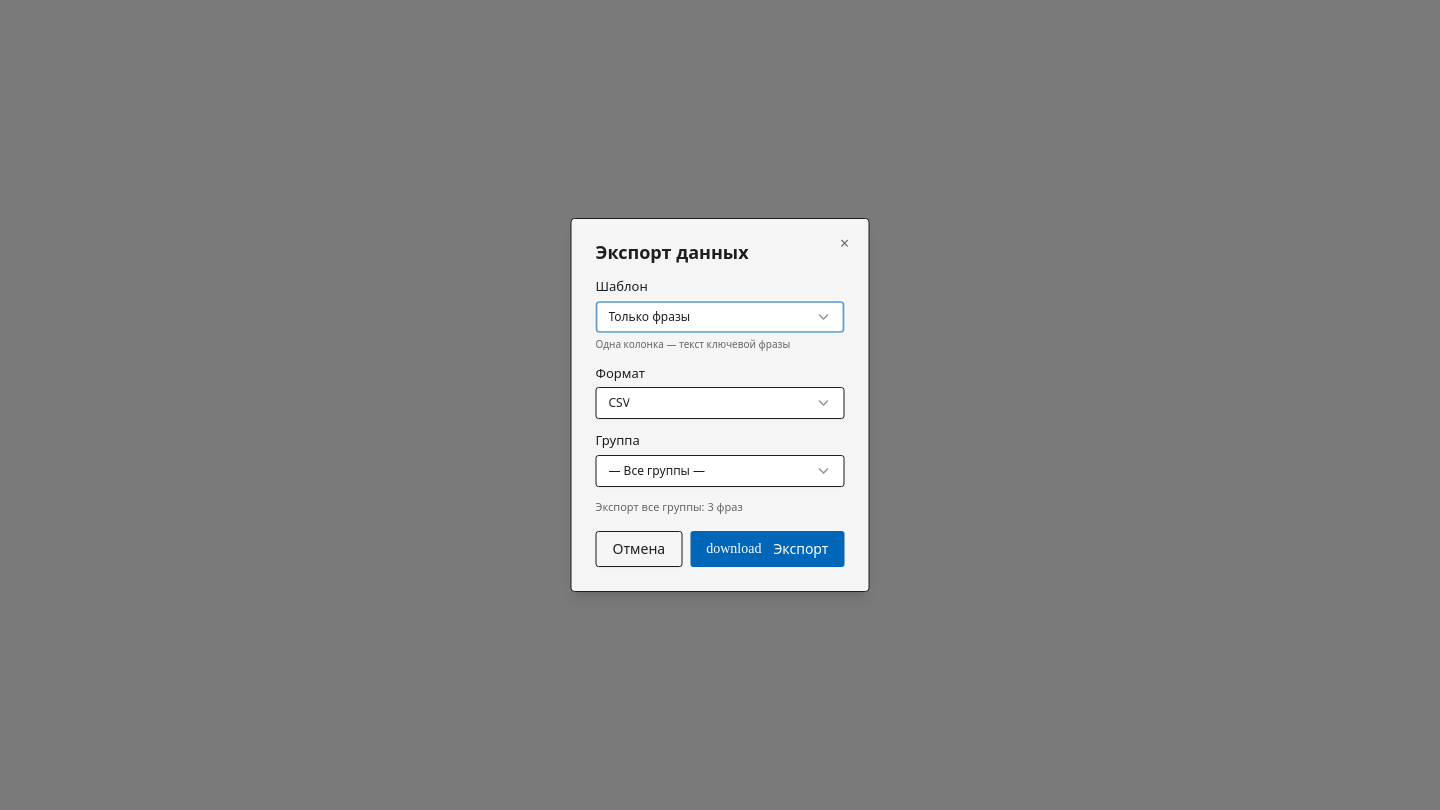
Scenario: ExportDialog › should show group selector for non-minus-words template
The width and height of the screenshot is (1440, 810).
Expected: the text "Группа" is shown, [596,431,640,449]
Click the dropdown named "Группа для экспорта".
click(720, 470)  # box [596,454,844,486]
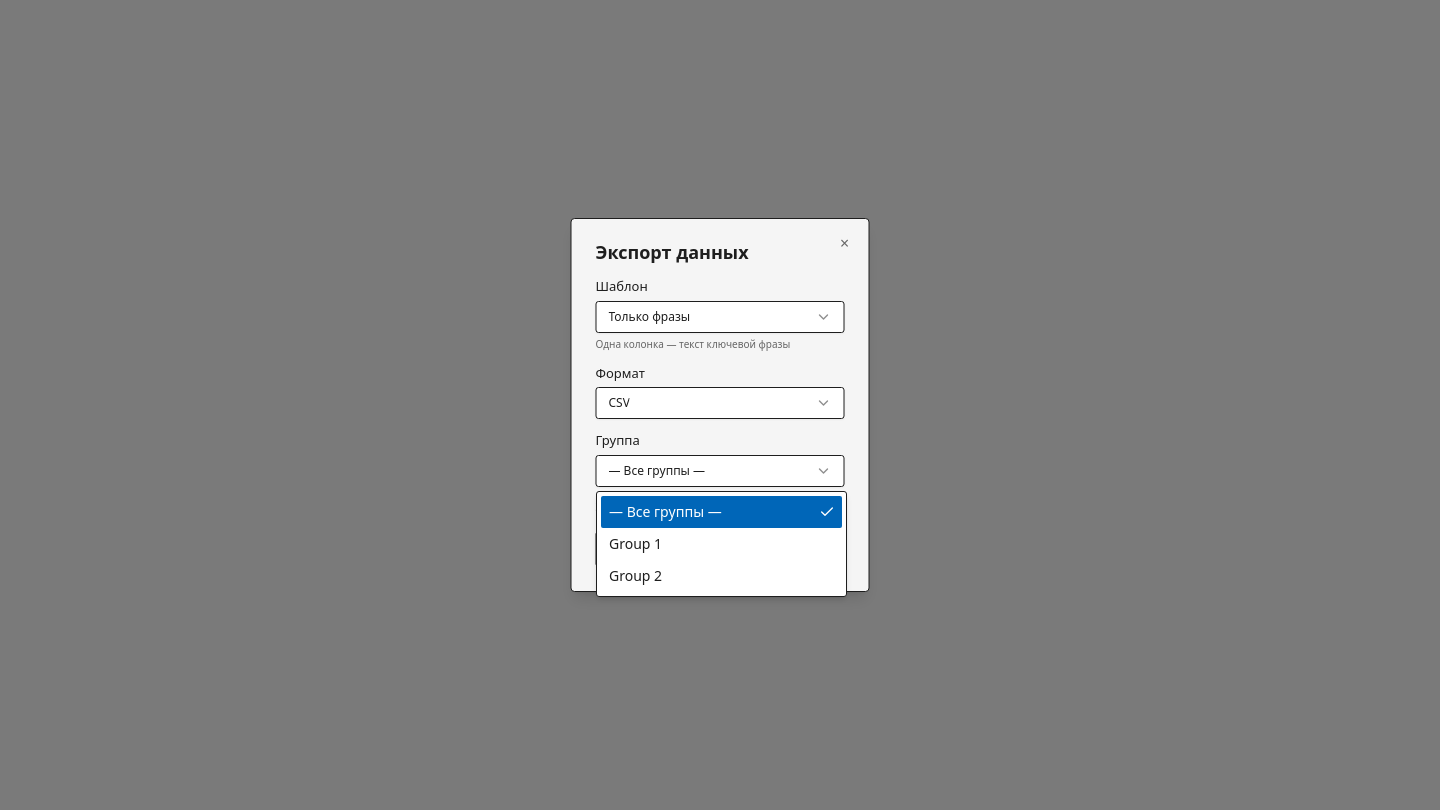
Expected: the text "Group 1" is shown, [609,534,662,554]
Expected: the text "Group 2" is shown, [609,566,662,586]
